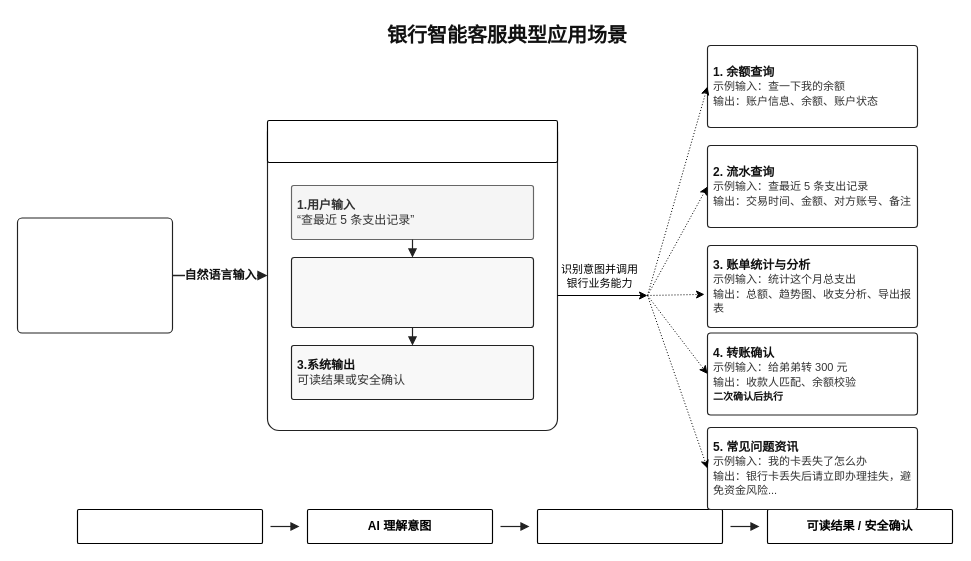
Some shapes in this 971 by 561 pixel diagram are drawn without their labels. The shapes that lost their labels are listed below. From the top down, each one's centre as x and y in pixels, then its label:
At point (412, 141): "BankCopilot AI 助手聊天窗口".
At point (94, 275): "个人银行用户 移动端 / 网页端 自然语言表达需求".
At point (412, 292): "2. AI 处理 识别意图、提取参数 并调用银行业务能力".
At point (169, 526): "自然语言入口".
At point (629, 526): "银行业务能力".
